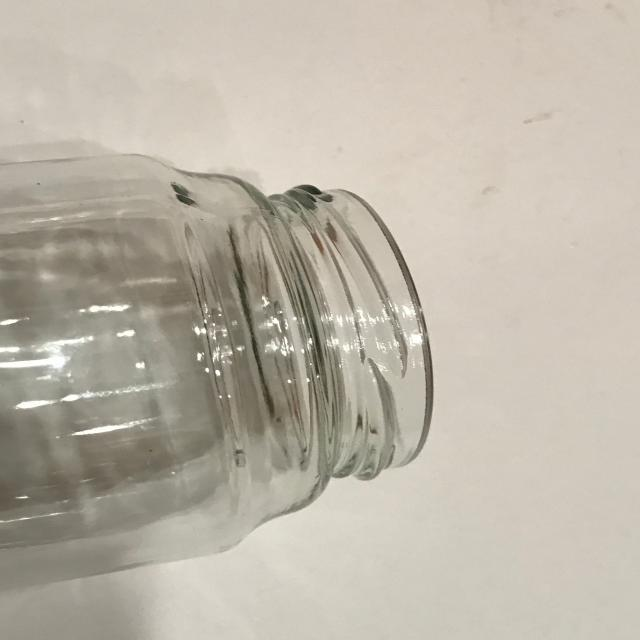glass: (1, 151, 438, 584)
